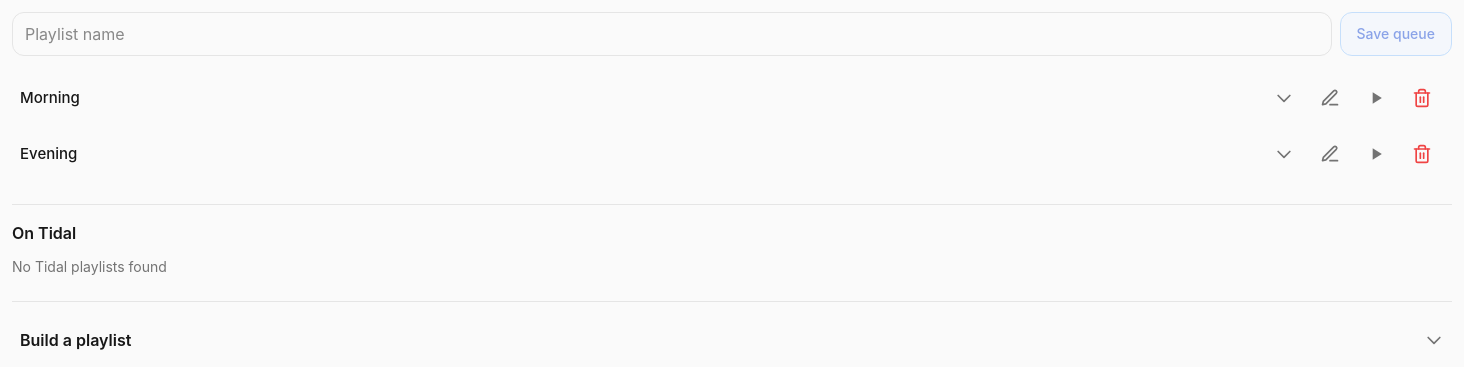
Test case: PlaylistsPanel › rename with an inline editor › opens an input prefilled with the name of the clicked row
What coordinates should you click on to do the following:
click the button with test id "playlist-rename-button"
I would click on:
 (1330, 154)
Its box is [1308,132,1352,176].
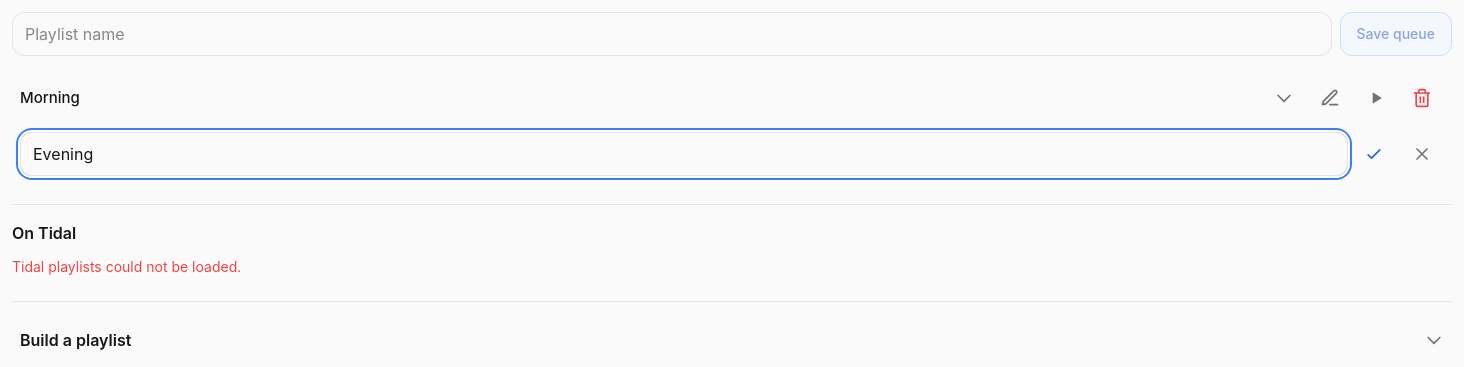
Now the number of fields with test id "playlist-rename-input" is 1, box [20,132,1348,176]
